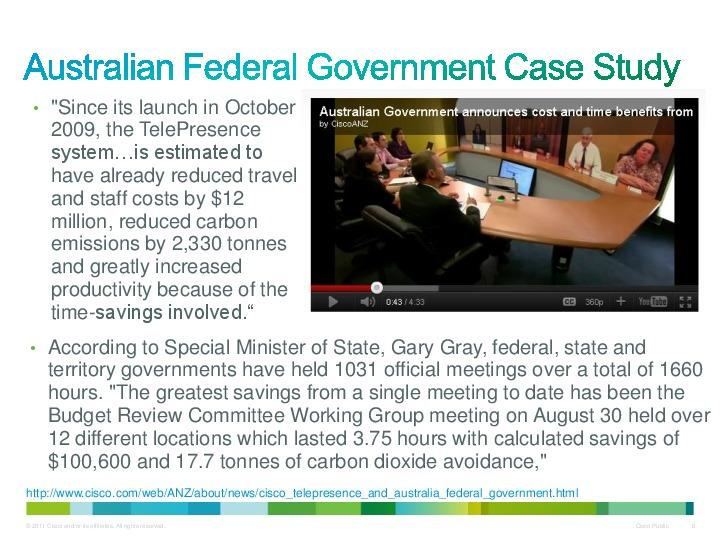paragraph: (28, 92, 714, 476)
subtitle: (23, 481, 720, 533)
title: (16, 31, 689, 90)
